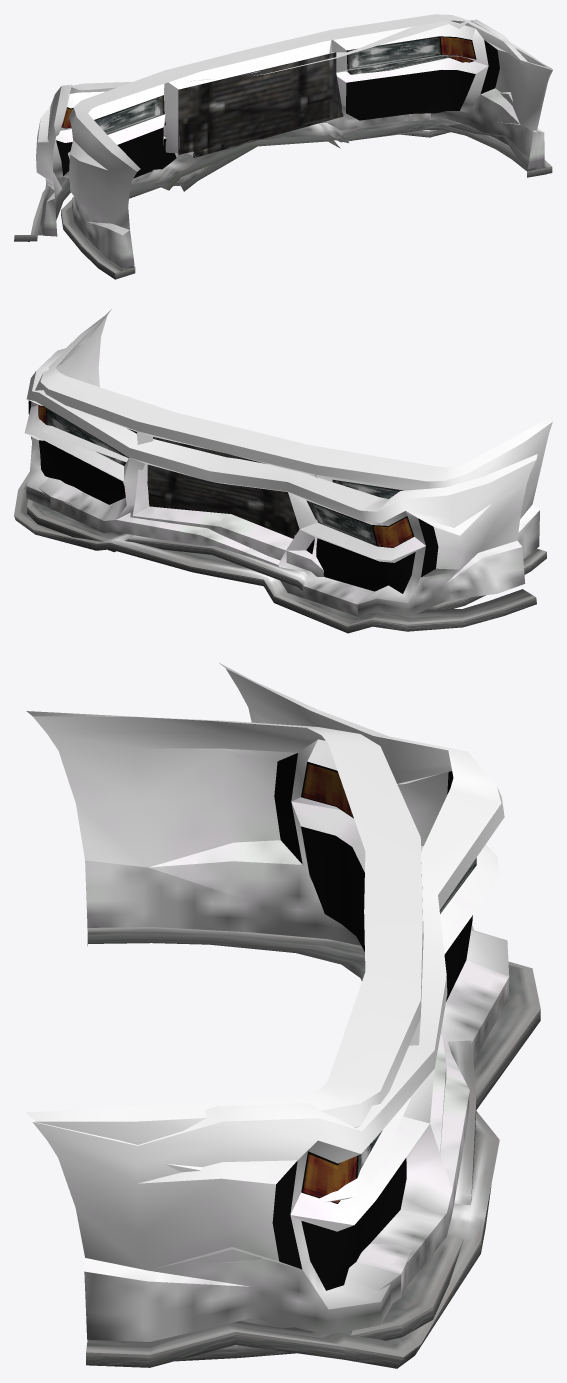
File: fbmp_a_u.glb
3 views of the same model, one above another, from view 1: azimuth 30°, elevation 25°; view 2: azimuth 150°, elevation 25°; view 3: azimuth 270°, elevation 25° (orthographic). The views are drawn at different scales.
Parts seen in each view (by area): view 1: fbmp_a_u, fbmp_a_u_dam; view 2: fbmp_a_u_dam, fbmp_a_u; view 3: fbmp_a_u_dam, fbmp_a_u.
Boxes of the visible parts, box(x1,y1,x2,y2) form: fbmp_a_u: box(61, 14, 552, 279); fbmp_a_u_dam: box(14, 19, 552, 241); fbmp_a_u_dam: box(14, 309, 537, 633); fbmp_a_u: box(27, 310, 552, 609); fbmp_a_u_dam: box(28, 663, 540, 1368); fbmp_a_u: box(26, 711, 476, 1361).
Size of the model in its own units: 2.44 by 0.6804 by 1.12.
Materials: 4 (4 with a texture image).
